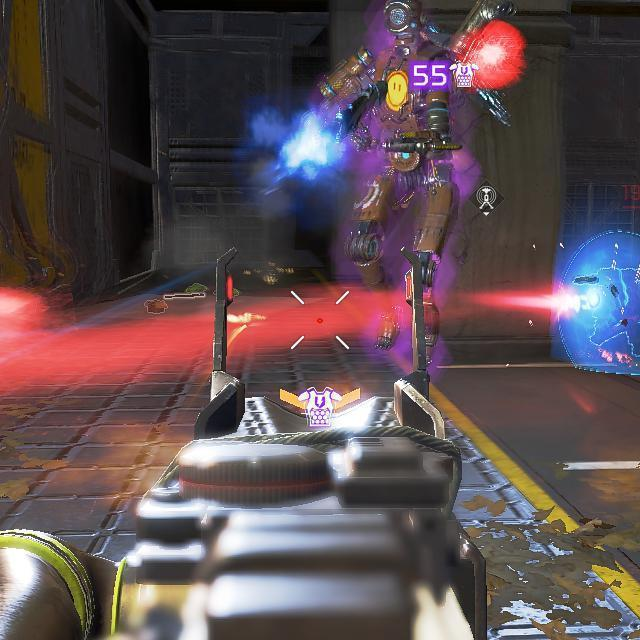avatar: (323, 2, 522, 381)
object: (450, 18, 524, 90)
